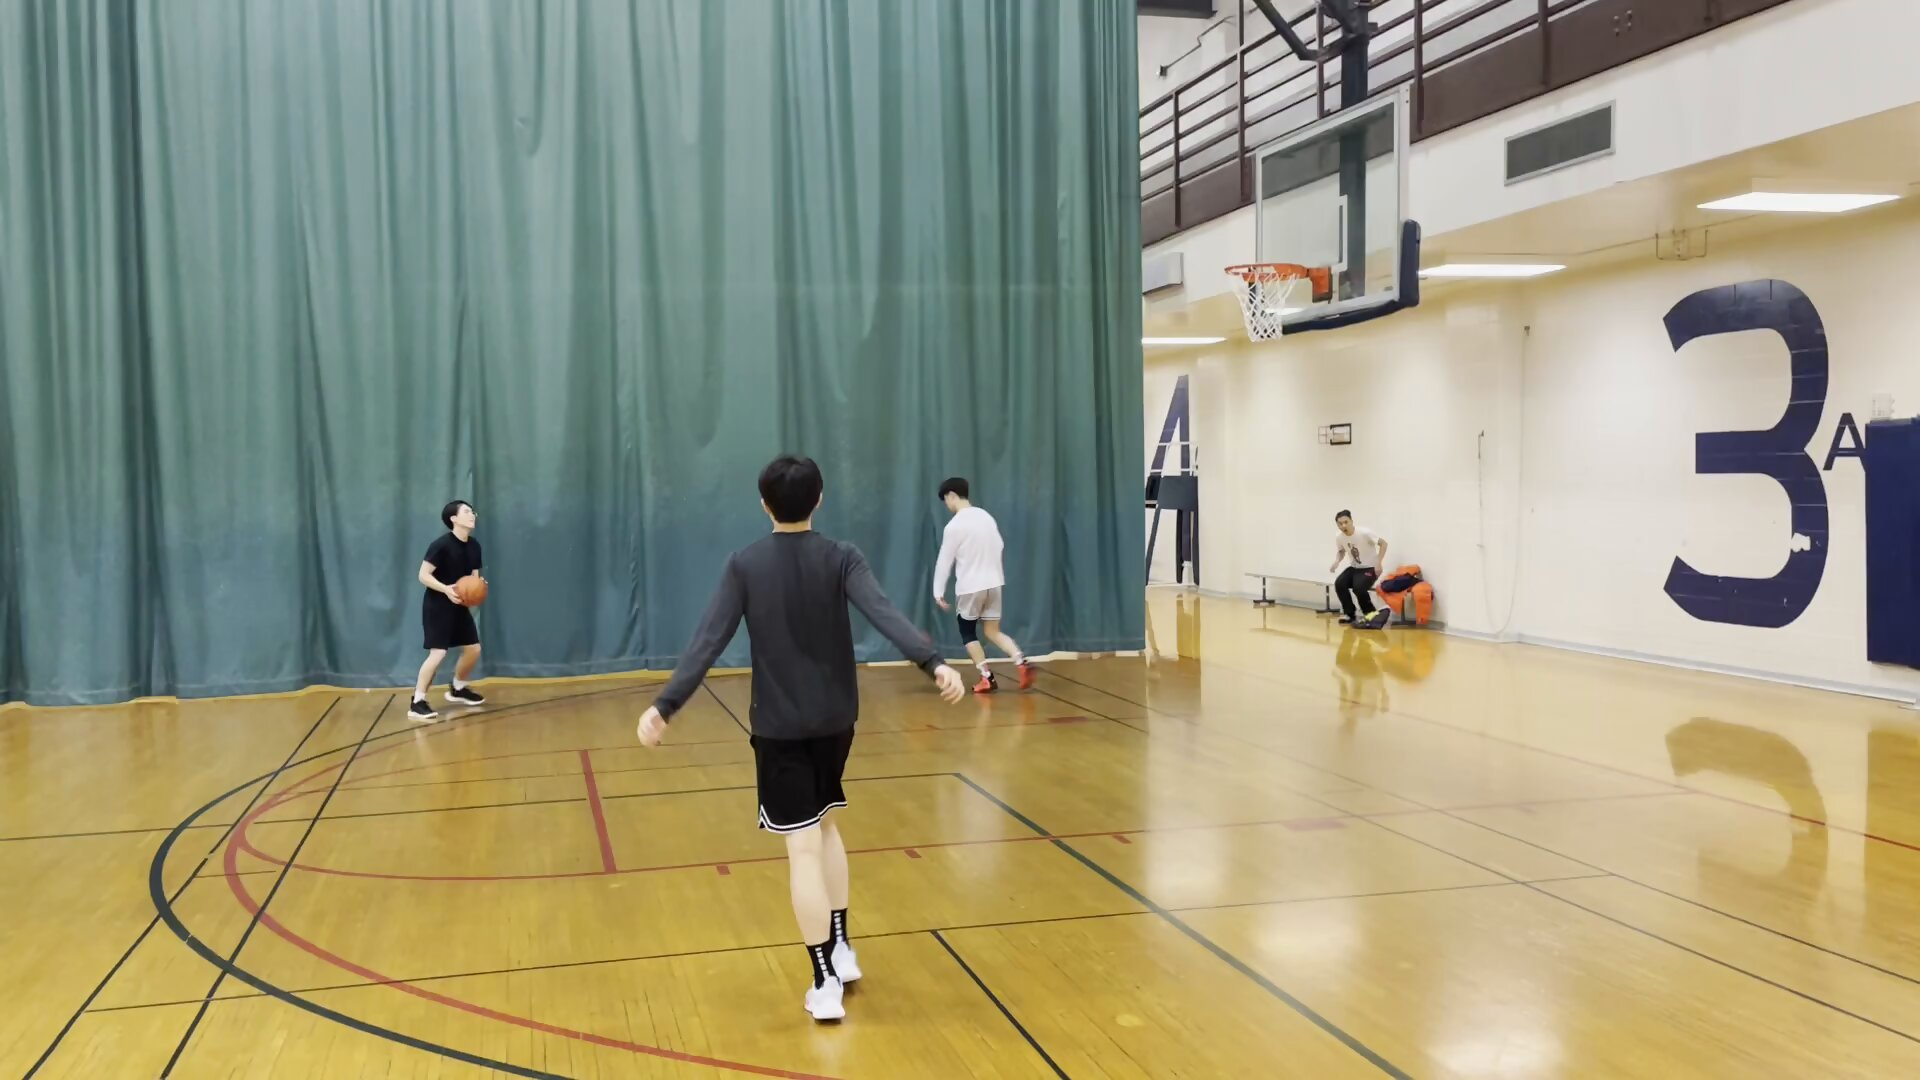ball: (450, 572, 493, 612)
net: (1234, 315, 1295, 349)
player: (634, 453, 967, 1031), (926, 470, 1035, 700), (408, 495, 492, 722), (1326, 507, 1389, 629)
rim: (1219, 257, 1314, 286)
